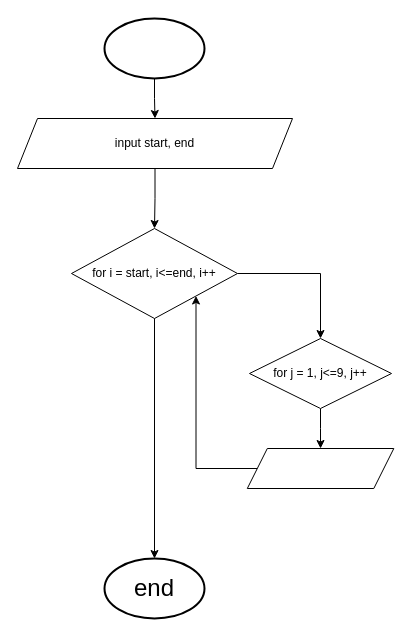
The diagram is 412 pixels wide and 636 high, and some of its shapes have lost their labels. Each missing label, with the box of its shape:
output i, "x", j , "=", i*j: (246, 448, 394, 488)
start: (103, 17, 205, 79)
